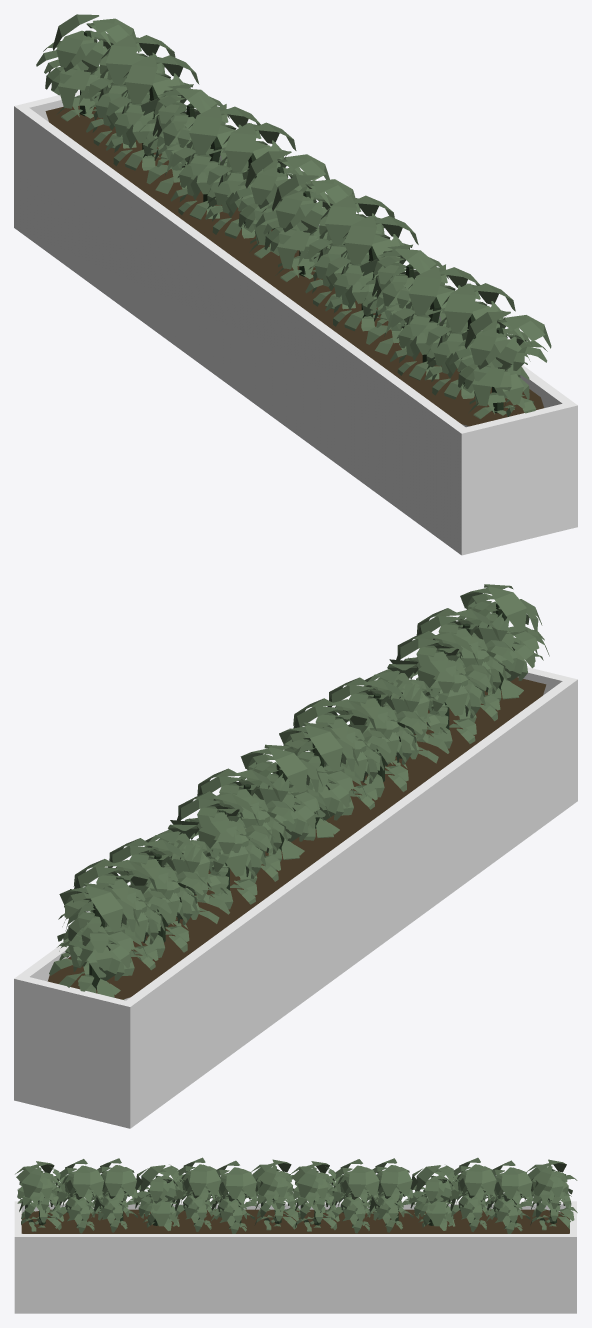
The model's file is saksi_bitkili_200x30x30.glb.
3 views of the same model, one above another, from view 1: azimuth 30°, elevation 25°; view 2: azimuth 150°, elevation 25°; view 3: azimuth 270°, elevation 25° (orthographic). The views are drawn at different scales.
Parts seen in each view (by area): view 1: Planter_200x30x30_Straight, Dirt, Plant_14_Leaves, Plant_8_Leaves, Plant_1_Leaves, Plant_3_Leaves, Plant_10_Leaves, Plant_5_Leaves, Plant_12_Leaves, Plant_6_Leaves, Plant_13_Leaves, Plant_7_Leaves (+4 smaller); view 2: Planter_200x30x30_Straight, Dirt, Plant_1_Leaves, Plant_12_Leaves, Plant_5_Leaves, Plant_3_Leaves, Plant_10_Leaves, Plant_8_Leaves, Plant_13_Leaves, Plant_6_Leaves, Plant_7_Leaves, Plant_14_Leaves (+4 smaller); view 3: Planter_200x30x30_Straight, Dirt, Plant_6_Leaves, Plant_13_Leaves, Plant_10_Leaves, Plant_3_Leaves, Plant_1_Leaves, Plant_14_Leaves, Plant_8_Leaves, Plant_7_Leaves, Plant_2_Leaves, Plant_11_Leaves (+4 smaller).
Boxes of the visible parts, x1,y1,x2,y2 form: Planter_200x30x30_Straight: [14, 90, 577, 555]; Dirt: [45, 105, 543, 426]; Plant_14_Leaves: [448, 311, 551, 419]; Plant_8_Leaves: [255, 175, 358, 281]; Plant_1_Leaves: [36, 14, 139, 121]; Plant_3_Leaves: [106, 55, 199, 170]; Plant_10_Leaves: [325, 216, 418, 331]; Plant_5_Leaves: [166, 96, 260, 219]; Plant_12_Leaves: [386, 257, 480, 380]; Plant_6_Leaves: [205, 122, 296, 238]; Plant_13_Leaves: [424, 283, 515, 399]; Plant_7_Leaves: [229, 151, 329, 258]; Planter_200x30x30_Straight: [14, 667, 577, 1128]; Dirt: [47, 677, 546, 999]; Plant_1_Leaves: [49, 883, 147, 1000]; Plant_12_Leaves: [389, 631, 493, 748]; Plant_5_Leaves: [170, 791, 274, 909]; Plant_3_Leaves: [108, 838, 206, 957]; Plant_10_Leaves: [327, 677, 425, 797]; Plant_8_Leaves: [279, 722, 366, 840]; Plant_13_Leaves: [416, 605, 514, 722]; Plant_6_Leaves: [197, 766, 294, 883]; Plant_7_Leaves: [240, 744, 330, 862]; Plant_14_Leaves: [460, 584, 549, 701]; Planter_200x30x30_Straight: [14, 1201, 576, 1313]; Dirt: [21, 1209, 569, 1233]; Plant_6_Leaves: [325, 1159, 383, 1233]; Plant_13_Leaves: [51, 1159, 108, 1233]; Plant_10_Leaves: [169, 1157, 221, 1231]; Plant_3_Leaves: [445, 1157, 497, 1231]; Plant_1_Leaves: [526, 1159, 577, 1230]; Plant_14_Leaves: [15, 1161, 65, 1231]; Plant_8_Leaves: [251, 1159, 299, 1230]; Plant_7_Leaves: [290, 1161, 339, 1231]; Plant_2_Leaves: [484, 1160, 538, 1233]; Plant_11_Leaves: [133, 1165, 183, 1230].
Size of the model in its own units: 0.3 by 0.5264 by 2.01.
